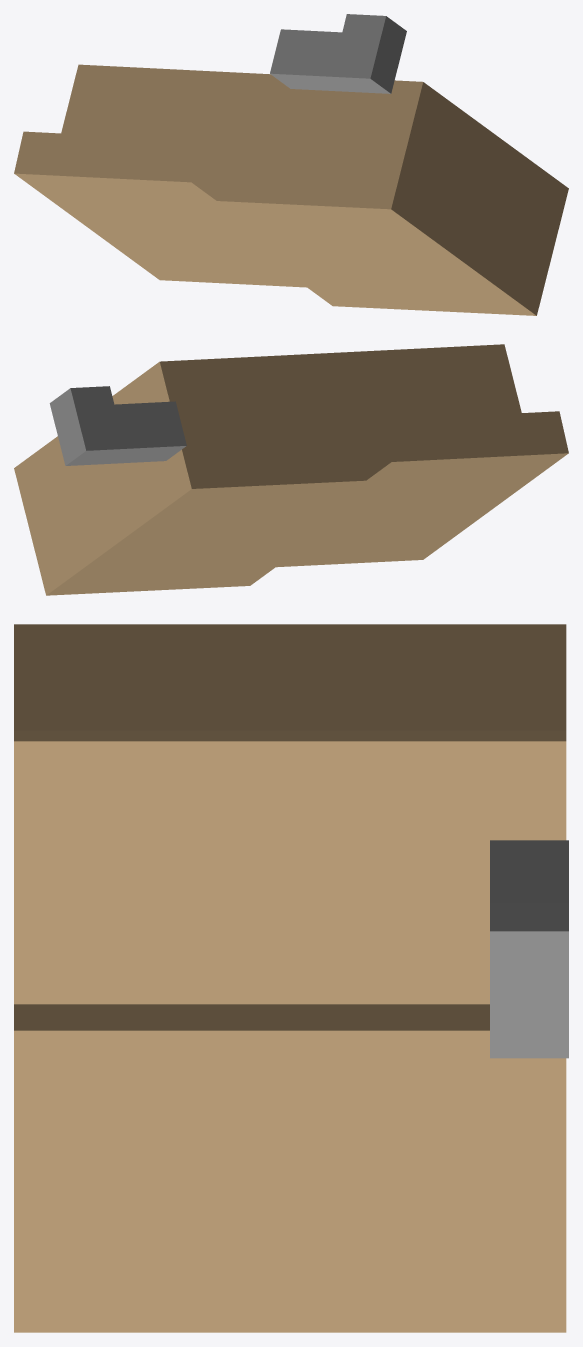
3 views of the same model, one above another, from view 1: azimuth 30°, elevation 25°; view 2: azimuth 150°, elevation 25°; view 3: azimuth 270°, elevation 25° (orthographic). The views are drawn at different scales.
Parts seen in each view (by area): view 1: 0_3_1_3_3_3_2_3_1; view 2: 0_3_1_3_3_3_2_3_1; view 3: 0_3_1_3_3_3_2_3_1.
Boxes of the visible parts, x1=… form: 0_3_1_3_3_3_2_3_1: x1=14, y1=14, x2=568, y2=315; 0_3_1_3_3_3_2_3_1: x1=14, y1=344, x2=568, y2=595; 0_3_1_3_3_3_2_3_1: x1=14, y1=624, x2=568, y2=1332.
Size of the model in its own units: 34.06 by 17.58 by 21.1.
